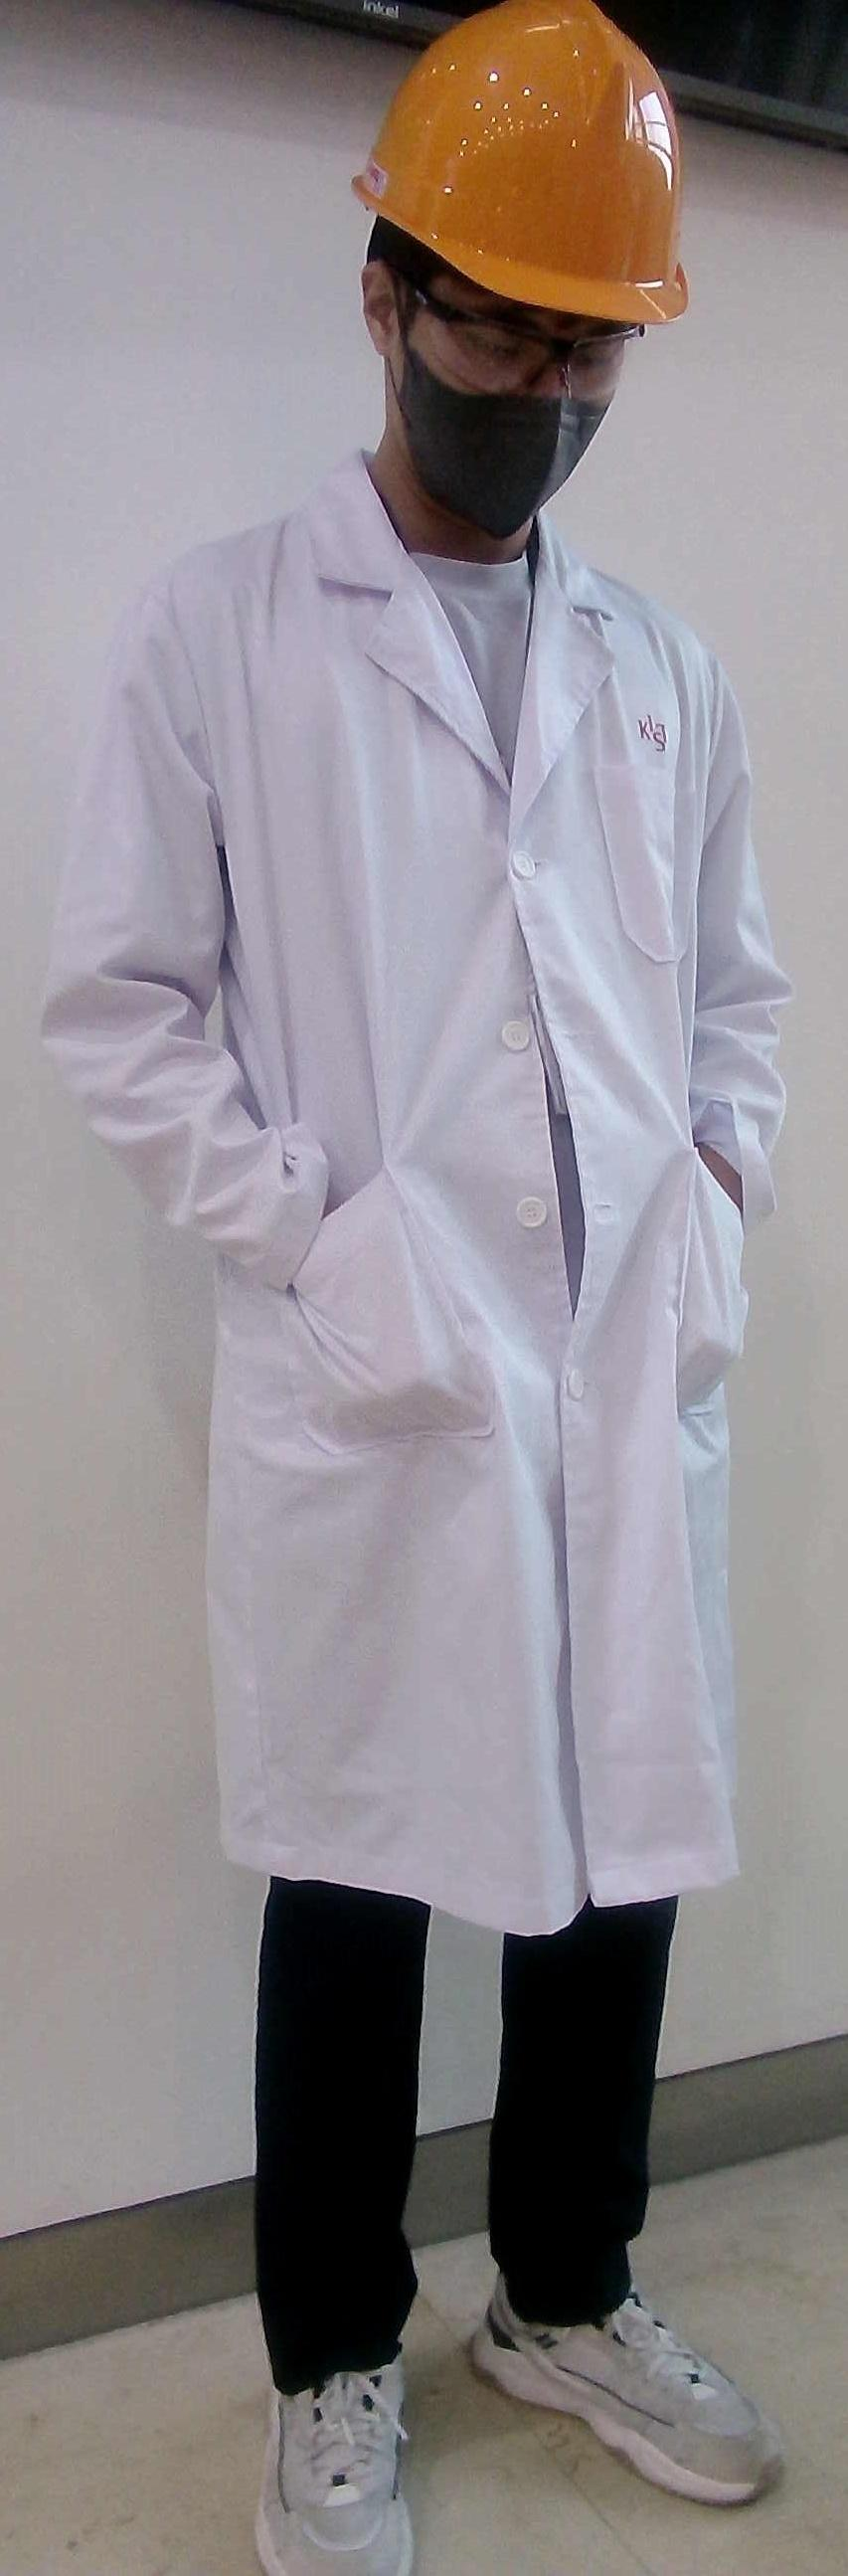lab_coat: (79, 547, 786, 1881)
